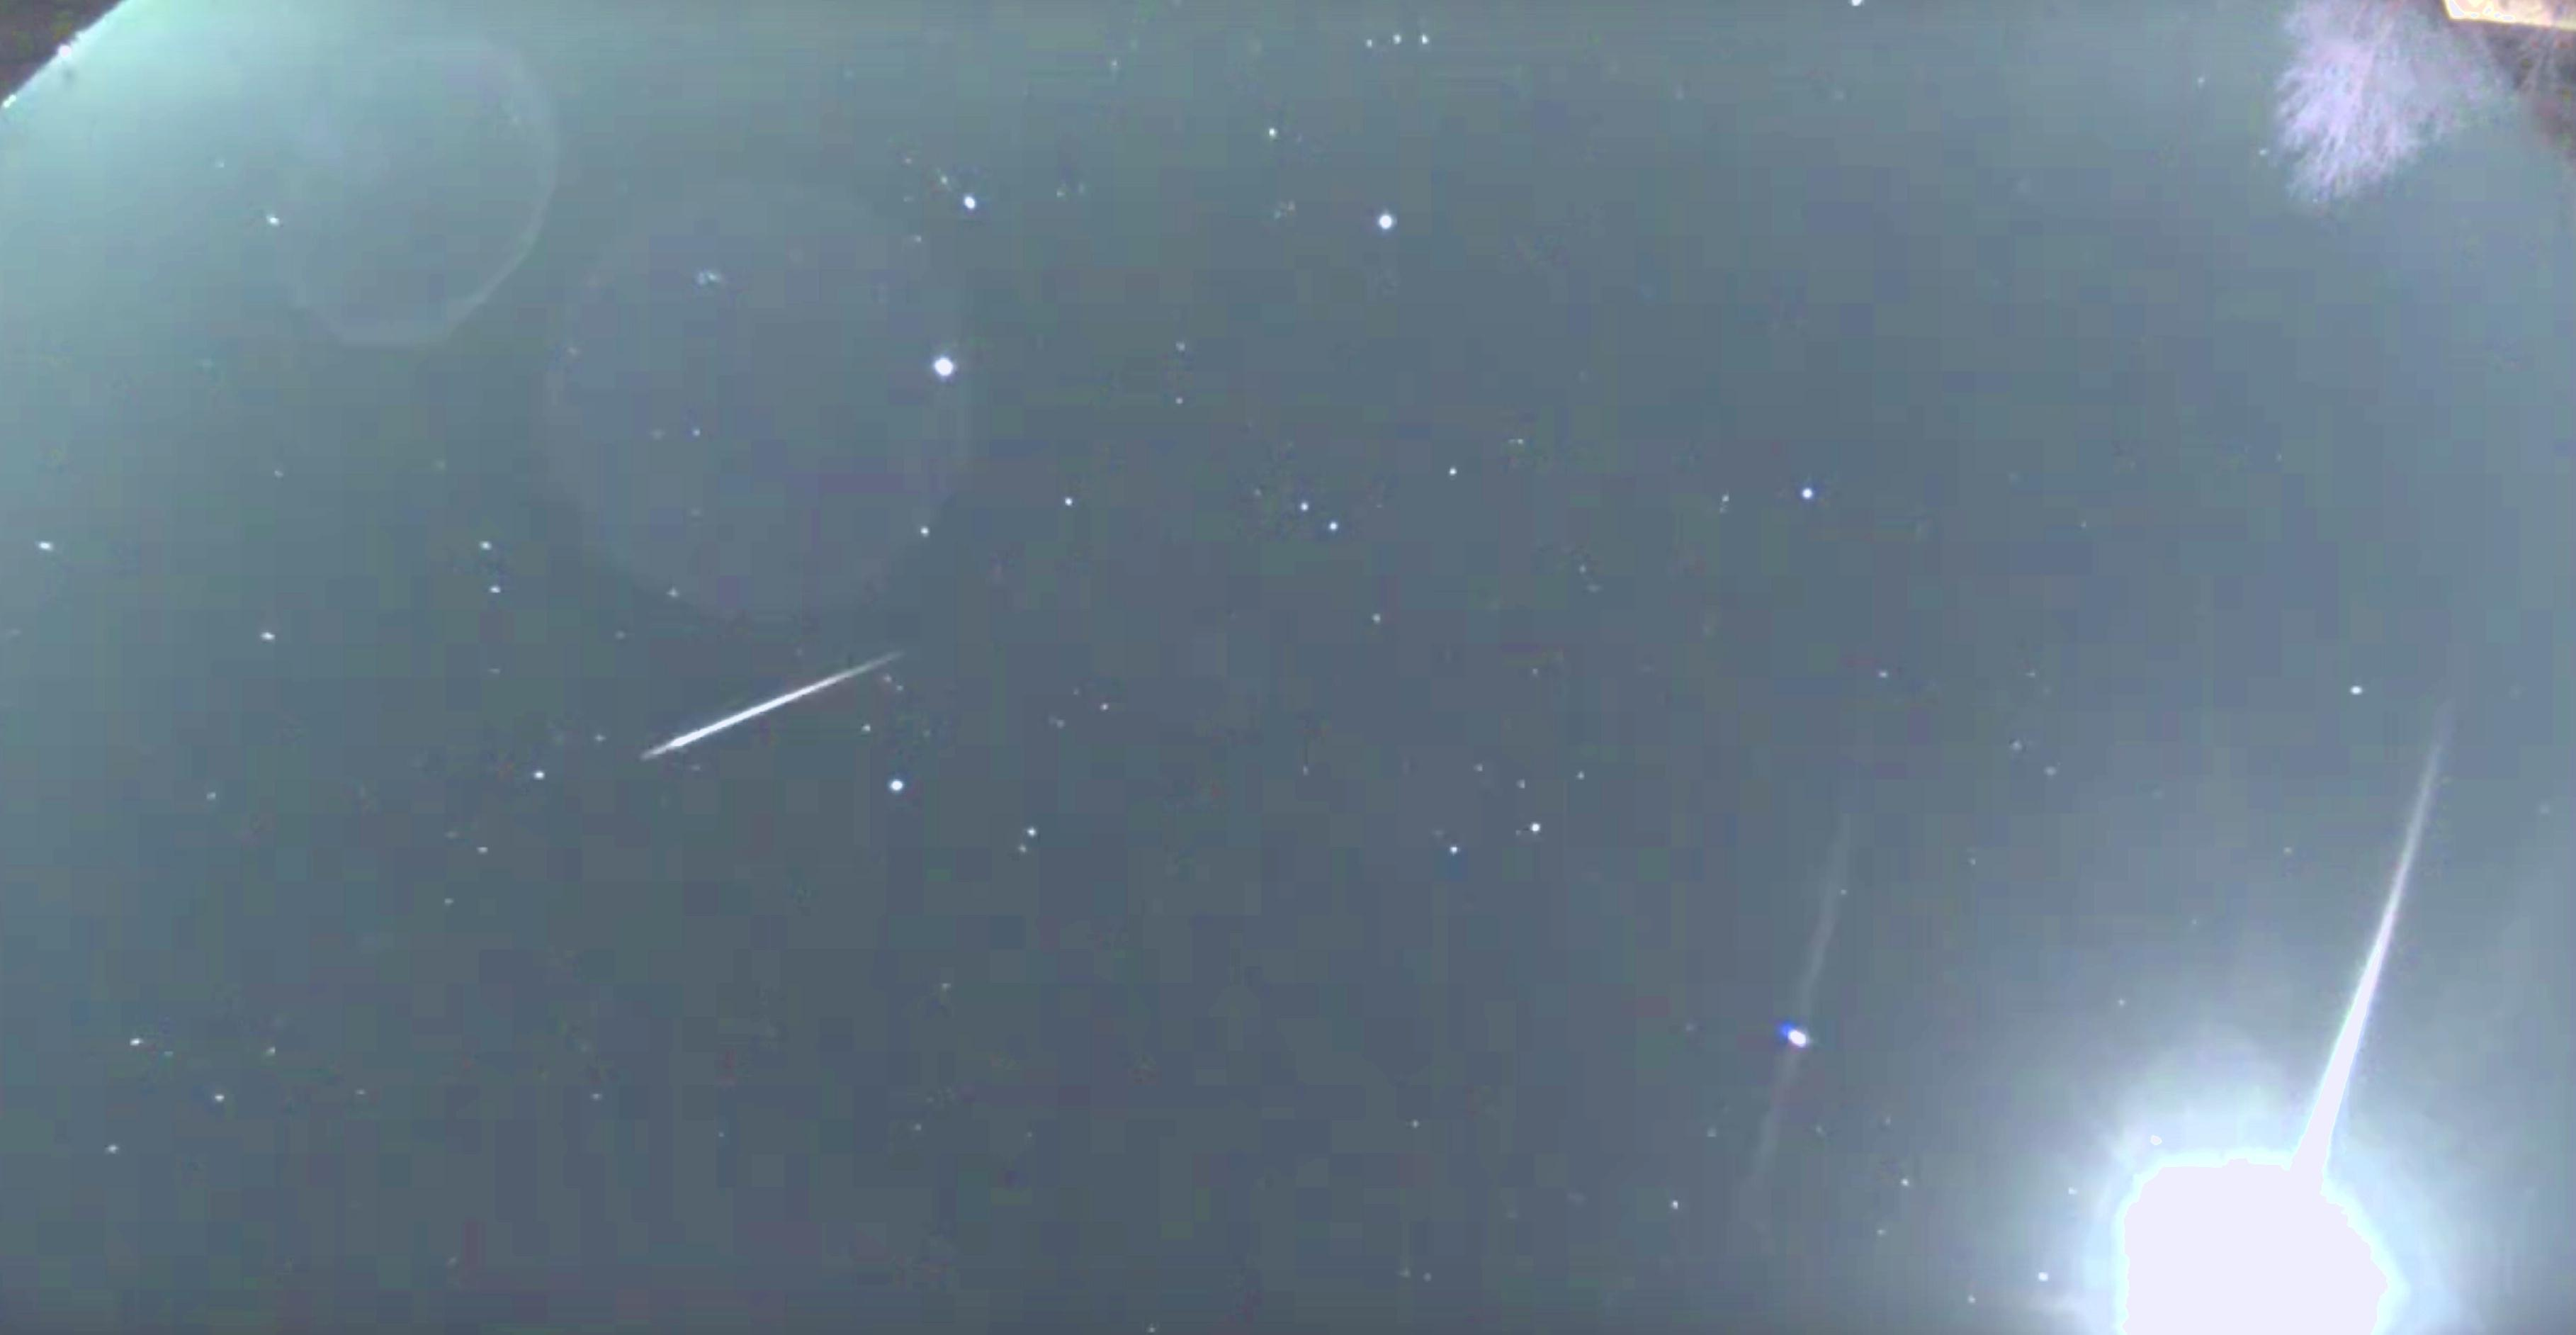meteorite: (584, 637, 927, 790)
